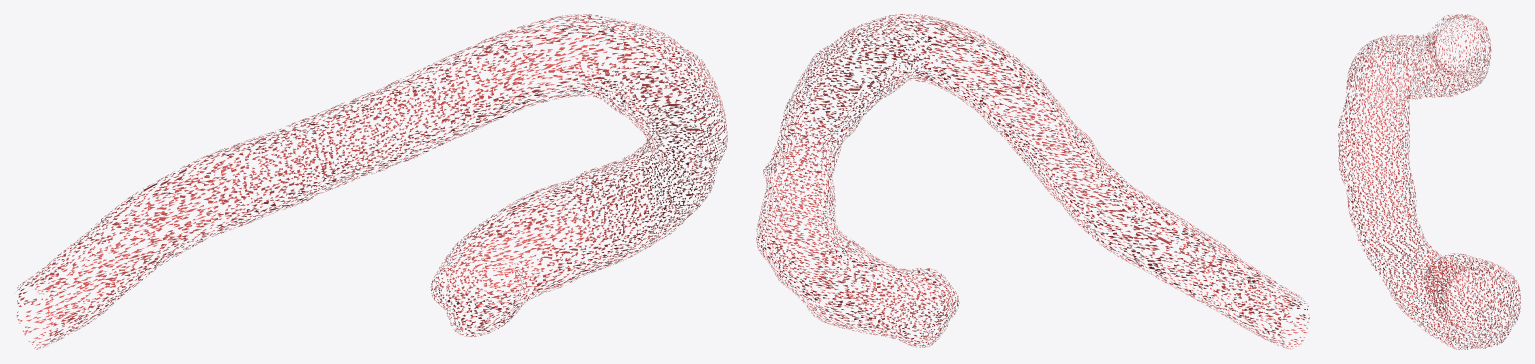
The model's file is aorta.glb.
3 renders of one model, left to right at view 1: azimuth 30°, elevation 25°; view 2: azimuth 150°, elevation 25°; view 3: azimuth 270°, elevation 25°, orthographic. The views are drawn at different scales.
Bounding box in the file's own units: 232 × 115 × 68.22.
